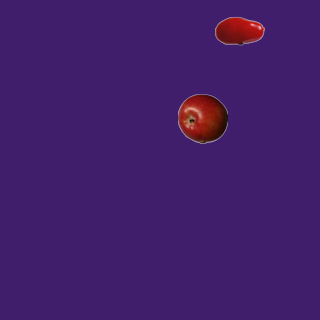Apple Braeburn: (177, 93, 227, 143)
Tomato 2: (214, 5, 264, 55)
